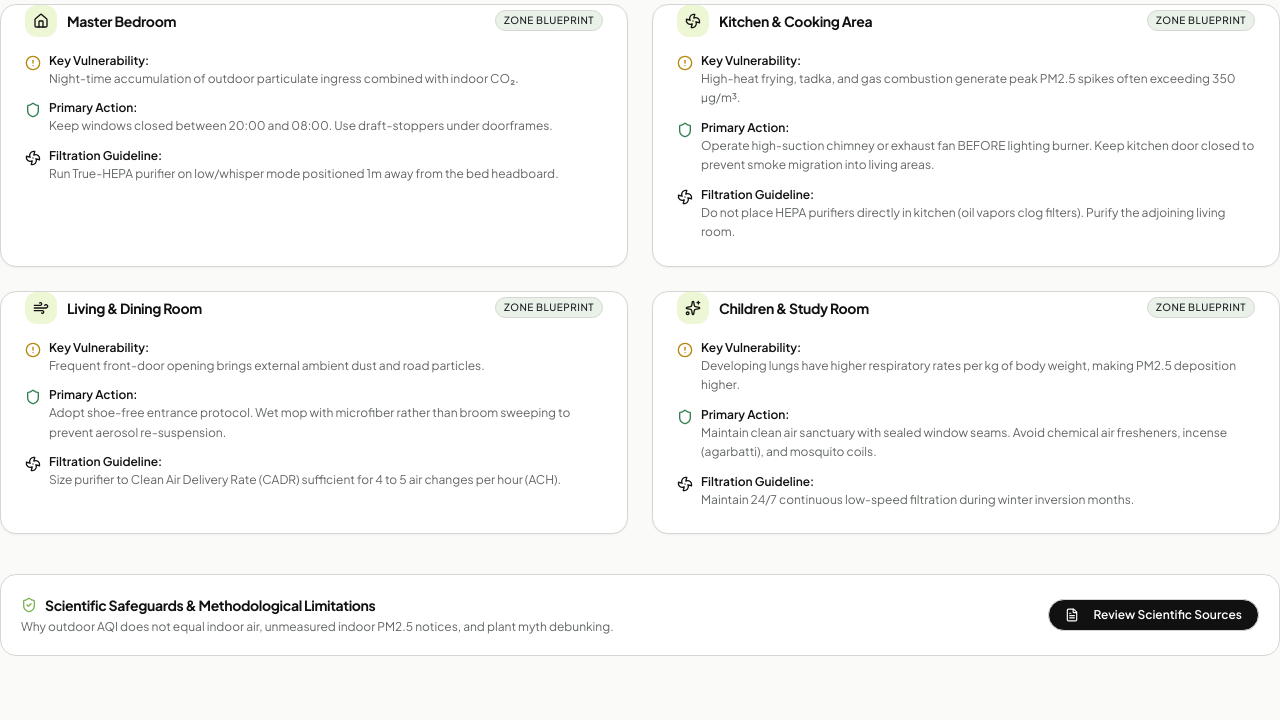
Test: Indoor Air Guardian UI Page and Interactive Form Controls › opens the scientific sources and methodological limitations drawer modal
This screenshot has width=1280, height=720.
Later steps or results of the test are not shown.
(page scrolled)
Click the button "Review Scientific Sources" at (1154, 615), box [1048,599,1259,631]
(page scrolled)
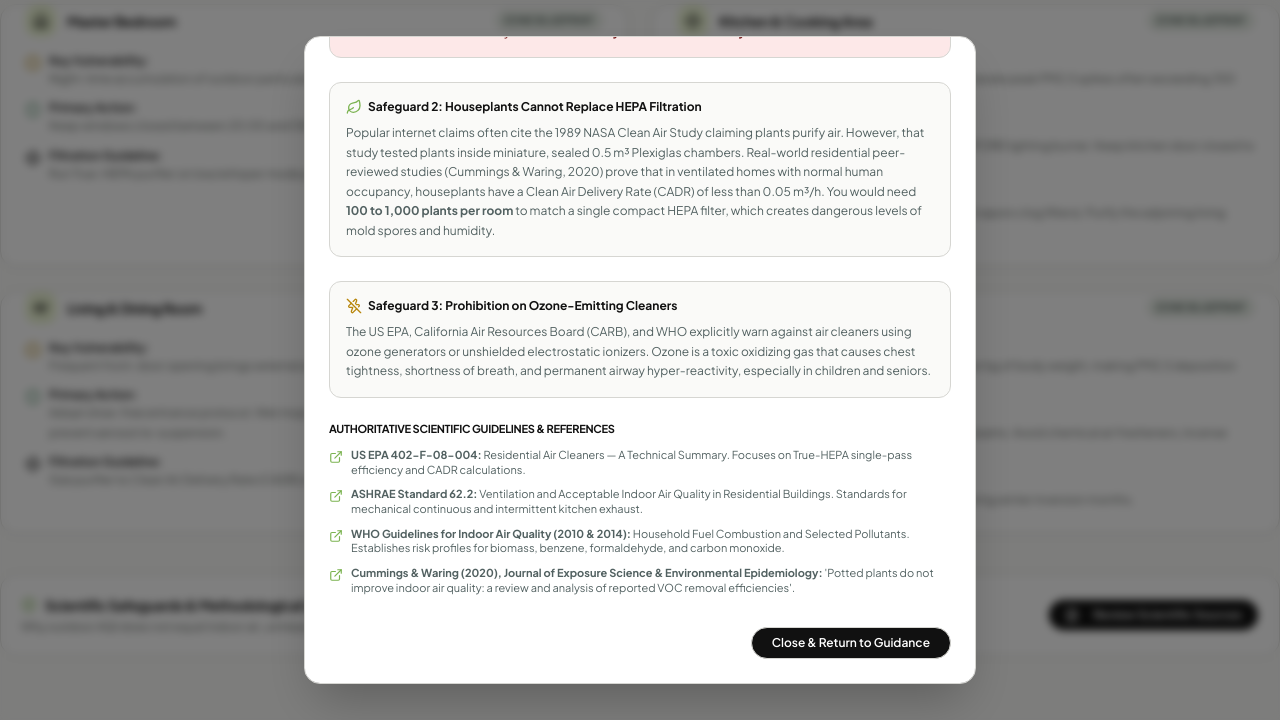
Result: the text "Safeguard 2: Houseplants Cannot Replace HEPA Filtration" is shown at [346,99,702,115]
